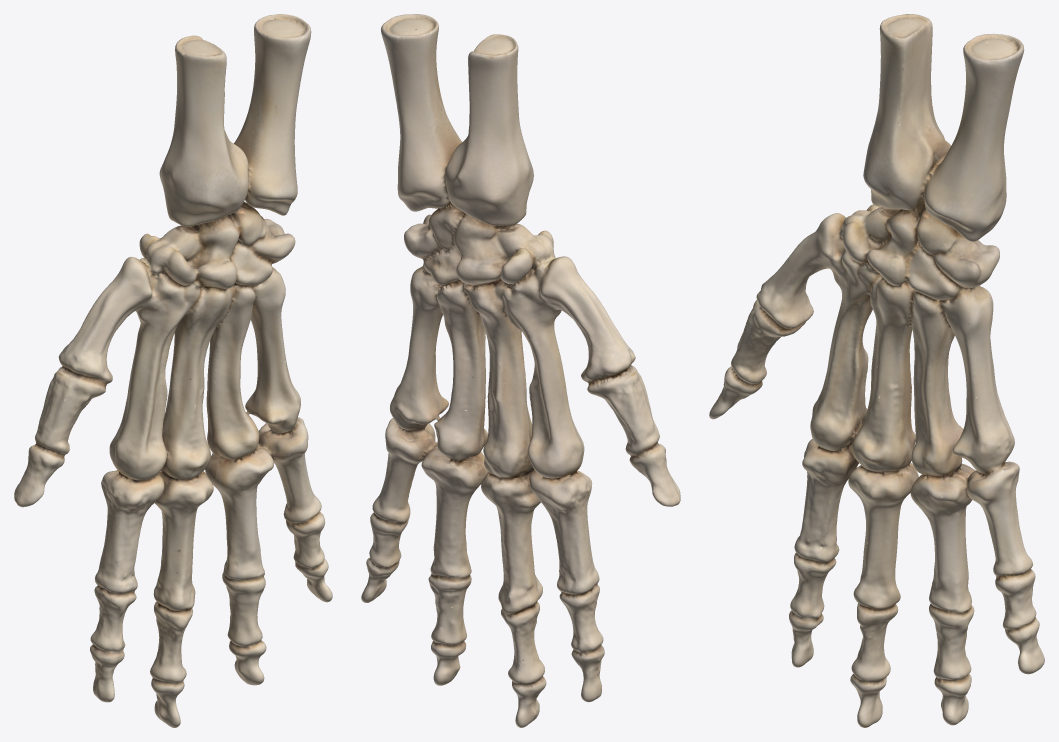
The model's file is human_hand_bones.glb.
3 renders of one model, left to right at view 1: azimuth 30°, elevation 25°; view 2: azimuth 150°, elevation 25°; view 3: azimuth 330°, elevation 25°, orthographic. The views are drawn at different scales.
Visible parts, largest first — view 1: Object_4, Object_6, Object_5; view 2: Object_5, Object_4, Object_6; view 3: Object_4, Object_6, Object_5.
Boxes of the visible parts, x1,y1,x2,y2 form: Object_4: (14, 14, 332, 727); Object_6: (18, 15, 332, 727); Object_5: (14, 15, 309, 709); Object_5: (361, 16, 675, 726); Object_4: (361, 14, 680, 727); Object_6: (365, 14, 680, 722); Object_4: (709, 14, 1044, 727); Object_6: (709, 15, 1035, 726); Object_5: (722, 14, 1038, 702).
Bounding box in the file's own units: 0.9705 × 2 × 0.2544.
Materials: 1 (1 with a texture image).
